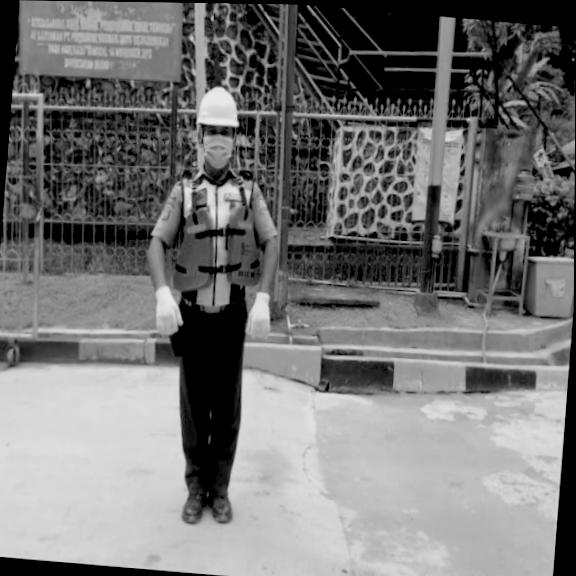safety_vest: (169, 199, 269, 299)
